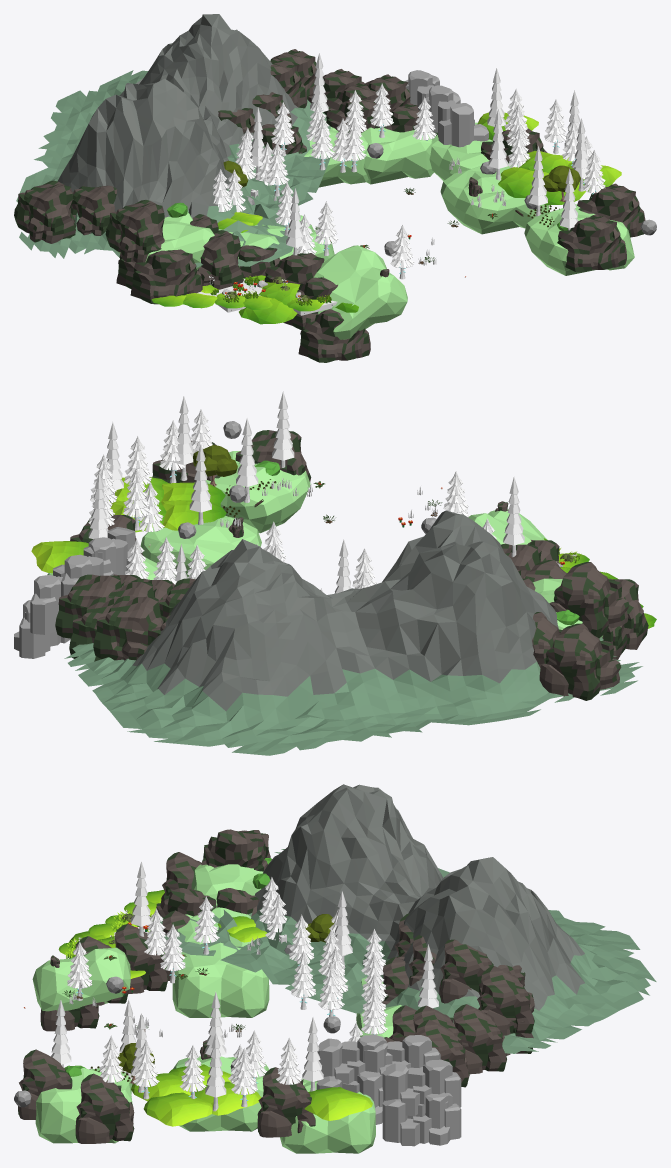
Rendered from Environment.gltf.
The picture shows the model from 3 angles, top to bottom: view 1: azimuth 30°, elevation 25°; view 2: azimuth 150°, elevation 25°; view 3: azimuth 270°, elevation 25°; orthographic projection. The views are drawn at different scales.
Parts seen in each view (by area): view 1: mountain, Bush 1 (9), Bush 1 (3), Big Rock 3, Bush 1 (7), Big Rock 3 (8), Big Rock 3 (5), Big Rock 3 (2), Big Rock 3 (7), Bush 1 (8), LPW_Rock_Wall_A1_01 (3), Big Rock 3 (4) (+50 smaller); view 2: mountain, Big Rock 3, Bush 1 (8), Big Rock 3 (2), Big Rock 3 (26), Bush 1 (3), Big Rock 3 (16), LPW_Rock_Wall_A1_01, LPW_Rock_Wall_A1_01 (3), Big Rock 3 (8), LPW_Rock_Wall_A1_01 (2), Big Rock 3 (5) (+31 smaller); view 3: mountain, Bush 1 (2), Bush 1 (9), LPW_Rock_Wall_A1_01 (2), Big Rock 3 (9), Bush 1 (4), LPW_Rock_Wall_A1_01, Bush 1 (8), Big Rock 3 (10), Big Rock 3 (26), Big Rock 3 (24), Big Rock 3 (23) (+45 smaller).
Part boxes in pixels (<box>): mountain: <box>16,14,330,267</box>; Bush 1 (9): <box>313,245,407,339</box>; Bush 1 (3): <box>440,163,549,234</box>; Big Rock 3: <box>14,180,76,243</box>; Bush 1 (7): <box>361,127,433,184</box>; Big Rock 3 (8): <box>557,214,626,272</box>; Big Rock 3 (5): <box>130,249,202,304</box>; Big Rock 3 (2): <box>105,200,164,262</box>; Big Rock 3 (7): <box>298,309,370,362</box>; Bush 1 (8): <box>524,204,634,275</box>; LPW_Rock_Wall_A1_01 (3): <box>425,85,474,147</box>; Big Rock 3 (4): <box>197,230,243,289</box>; mountain: <box>64,510,642,755</box>; Big Rock 3: <box>539,623,621,700</box>; Bush 1 (8): <box>194,451,310,533</box>; Big Rock 3 (2): <box>549,562,629,638</box>; Big Rock 3 (26): <box>93,596,163,660</box>; Bush 1 (3): <box>140,515,261,581</box>; Big Rock 3 (16): <box>55,574,124,638</box>; LPW_Rock_Wall_A1_01: <box>25,564,64,634</box>; LPW_Rock_Wall_A1_01 (3): <box>88,527,135,575</box>; Big Rock 3 (8): <box>235,430,311,482</box>; LPW_Rock_Wall_A1_01 (2): <box>14,600,70,658</box>; Big Rock 3 (5): <box>608,578,648,649</box>; mountain: <box>160,784,656,1053</box>; Bush 1 (2): <box>172,942,269,1017</box>; Bush 1 (9): <box>32,947,130,1011</box>; LPW_Rock_Wall_A1_01 (2): <box>382,1092,461,1146</box>; Big Rock 3 (9): <box>75,1073,134,1143</box>; Bush 1 (4): <box>280,1078,375,1153</box>; LPW_Rock_Wall_A1_01: <box>382,1059,461,1115</box>; Bush 1 (8): <box>35,1068,132,1143</box>; Big Rock 3 (10): <box>257,1067,315,1137</box>; Big Rock 3 (26): <box>477,966,534,1035</box>; Big Rock 3 (24): <box>453,1004,506,1074</box>; Big Rock 3 (23): <box>439,939,493,1003</box>.
Size of the model in its own units: 1.04 by 0.3593 by 1.01.
18 materials, 7 textured.
